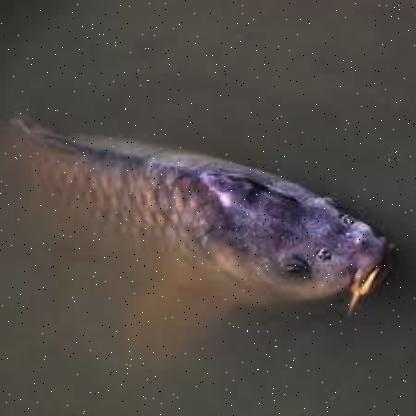ikan-mas: (5, 122, 399, 314)
